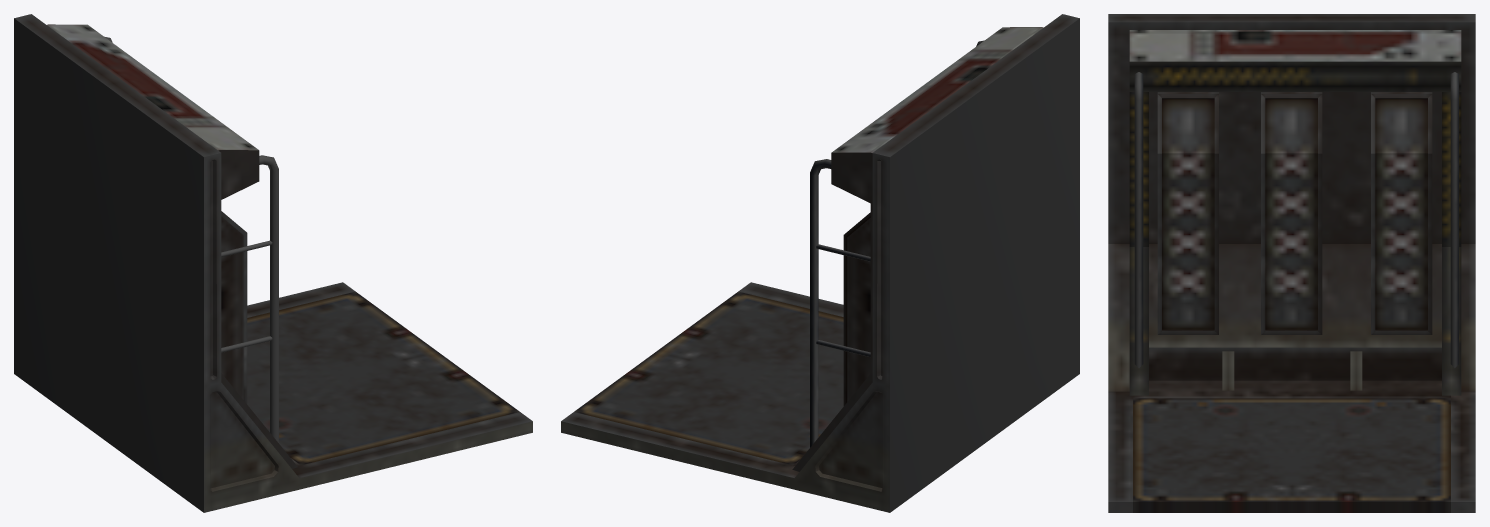
Rendered from Wall-Floor_07.FBX.
3 views of the same model, side by side, from view 1: azimuth 30°, elevation 25°; view 2: azimuth 150°, elevation 25°; view 3: azimuth 270°, elevation 25° (orthographic). The views are drawn at different scales.
Parts seen in each view (by area): view 1: Wall-Floor_07; view 2: Wall-Floor_07; view 3: Wall-Floor_07.
Boxes of the visible parts, x1,y1,x2,y2 form: Wall-Floor_07: [14, 14, 532, 512]; Wall-Floor_07: [561, 14, 1079, 512]; Wall-Floor_07: [1108, 14, 1475, 512].
Bounding box in the file's own units: 300 × 310 × 300.
